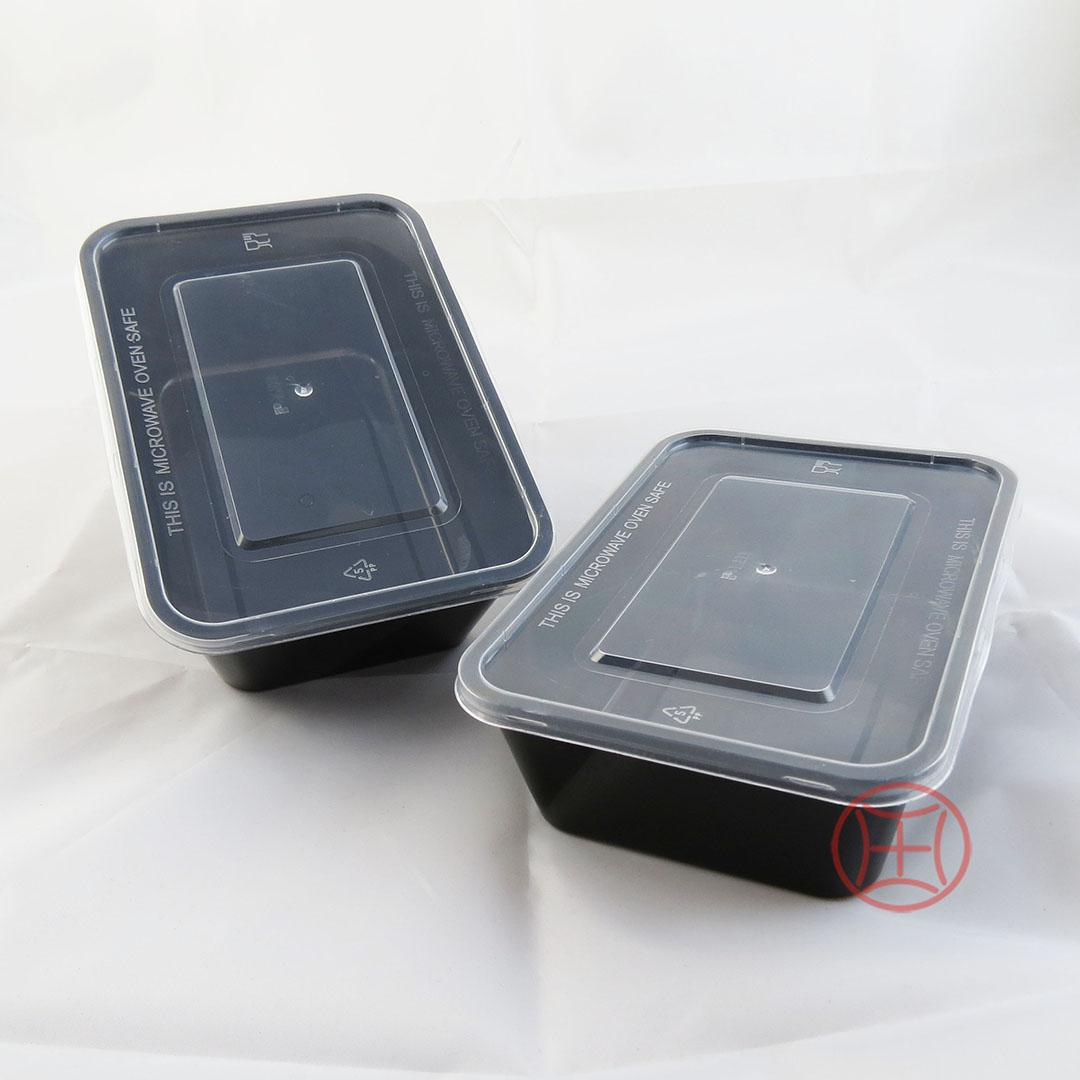plastic: (456, 432, 1017, 904), (81, 195, 550, 689)
